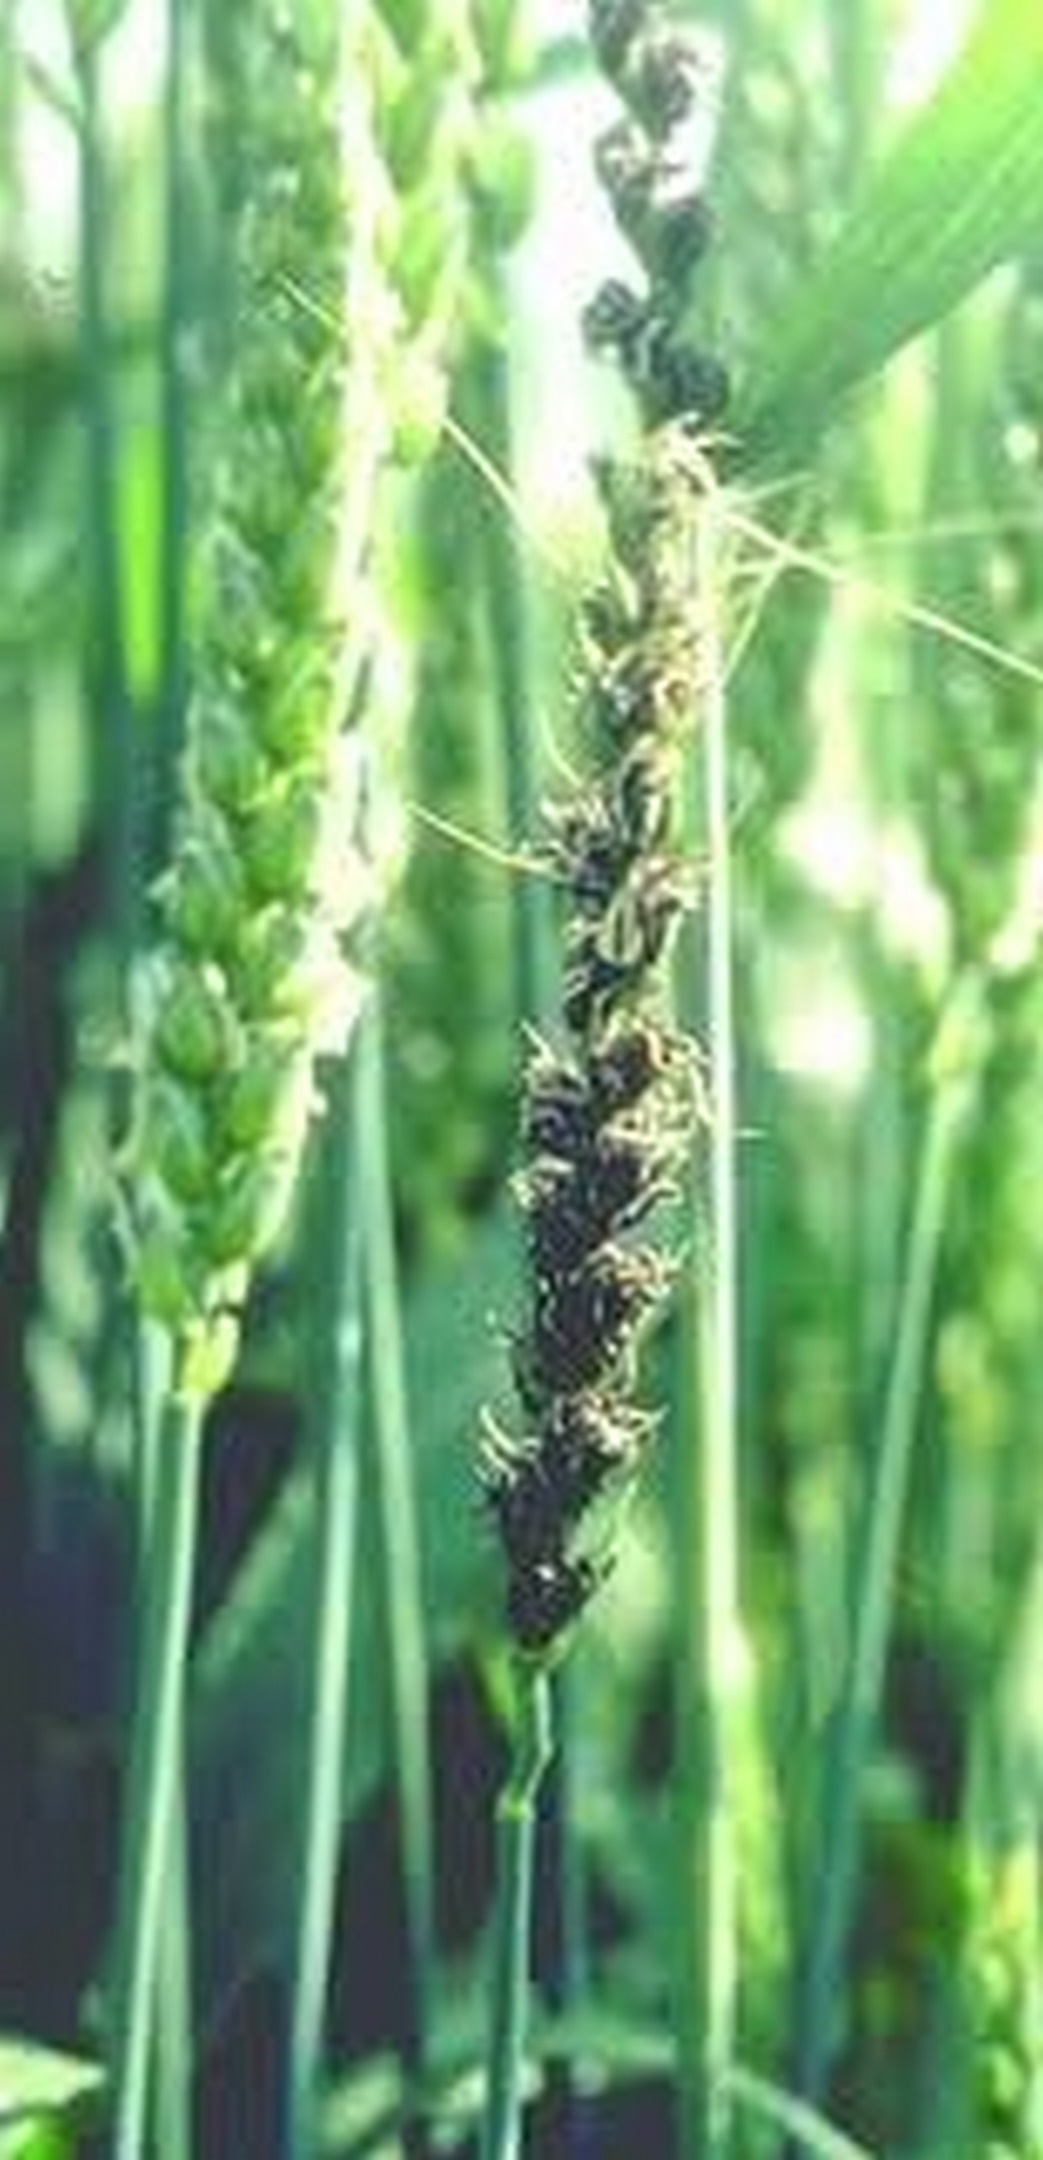Wheat Loose Smut: (462, 452, 722, 1670)
